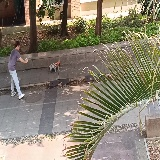fire: (56, 61, 60, 66)
